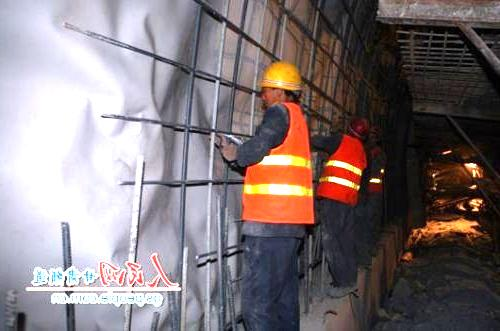helmet: (257, 60, 304, 110), (346, 119, 367, 140)
